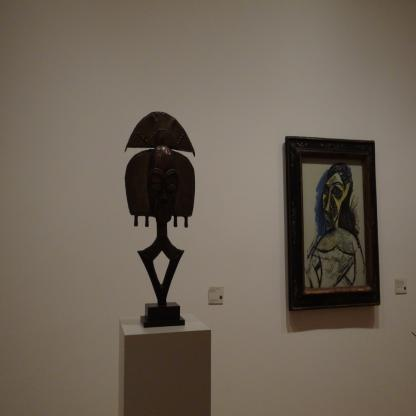Picture-frame: (287, 136, 381, 315)
